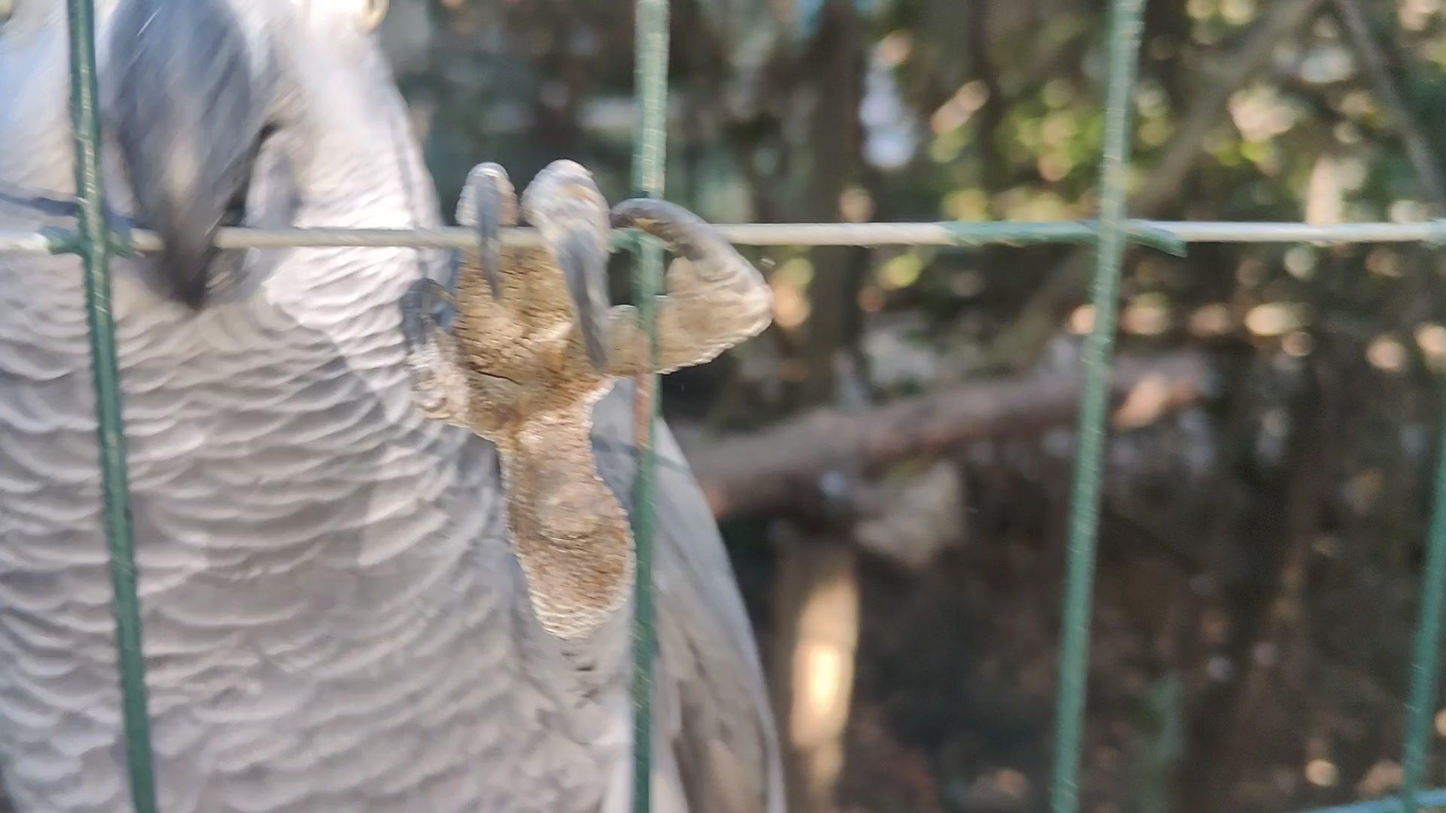apple: (0, 0, 787, 813)
